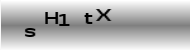1: (57, 12, 69, 27)
H: (43, 10, 59, 25)
X: (94, 7, 111, 22)
s: (23, 27, 36, 38)
t: (83, 12, 93, 24)
